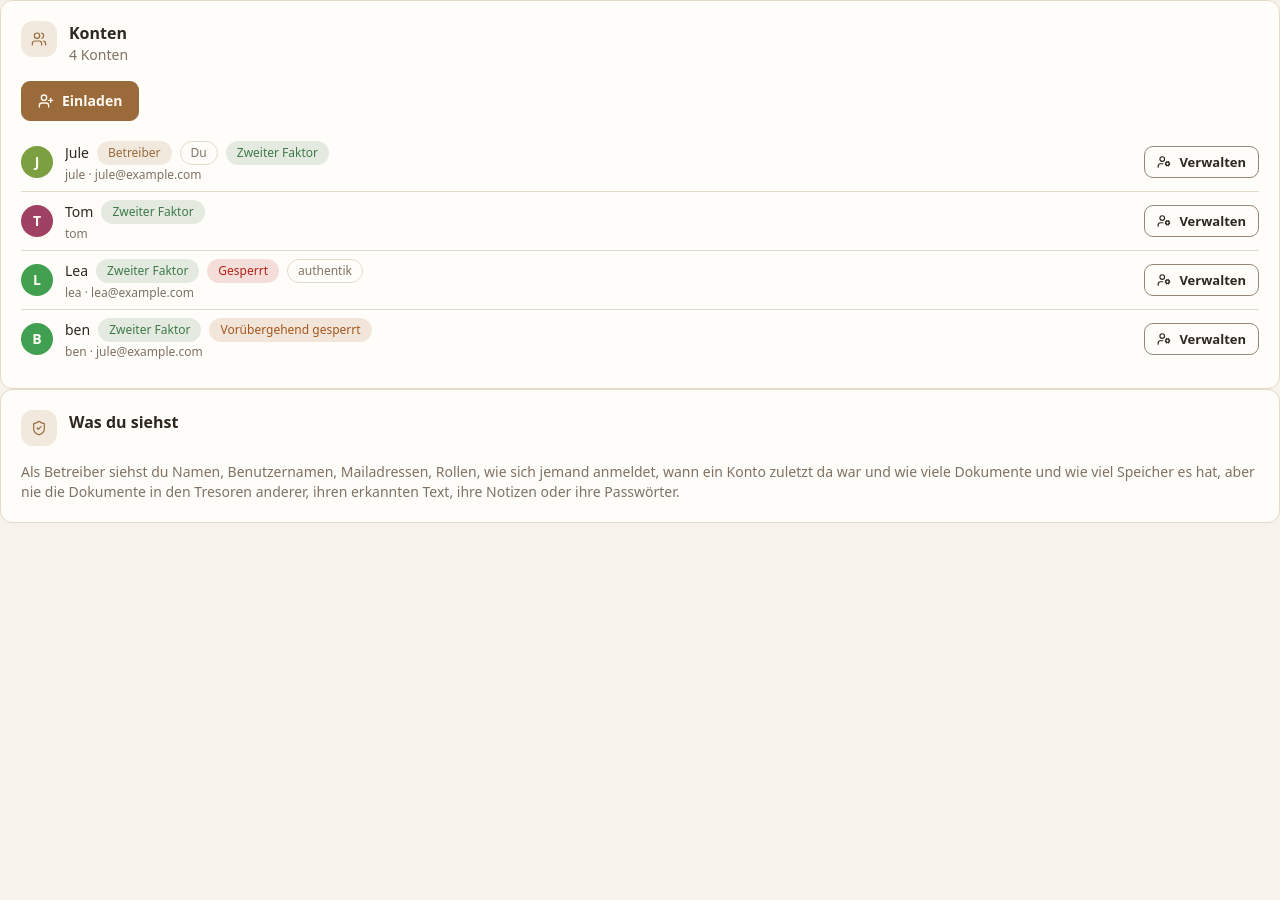
Scenario: the accounts › keep every act of before in the dialog, the link for a new password among them, and none of them at the own account
Click the button "Verwalten" in the row of "jule · jule@example.com" at (1202, 162), box [1144, 146, 1259, 178]
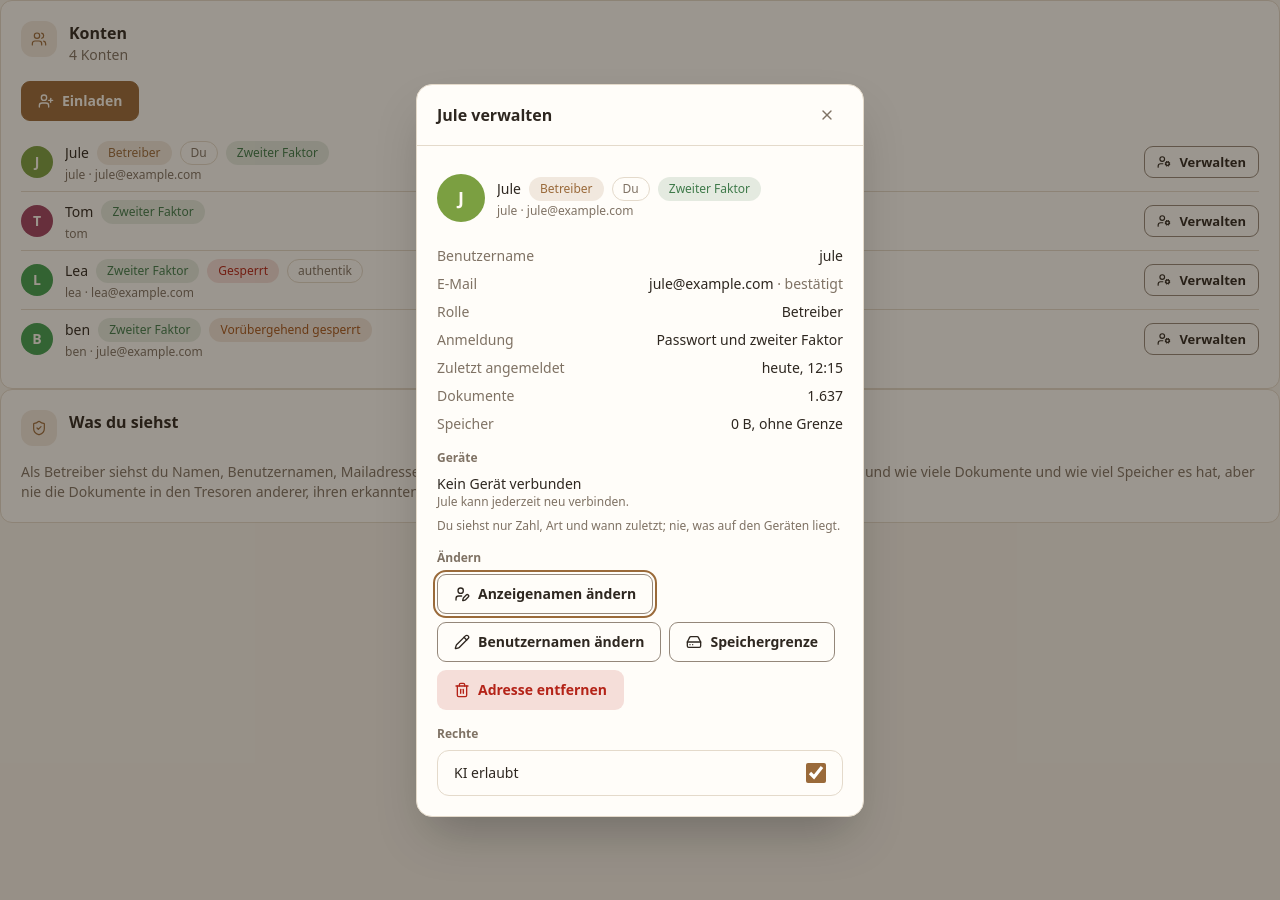
Expected: the button named "Schließen" is shown
Click the button named "Schließen" at (827, 114), box [811, 98, 843, 130]
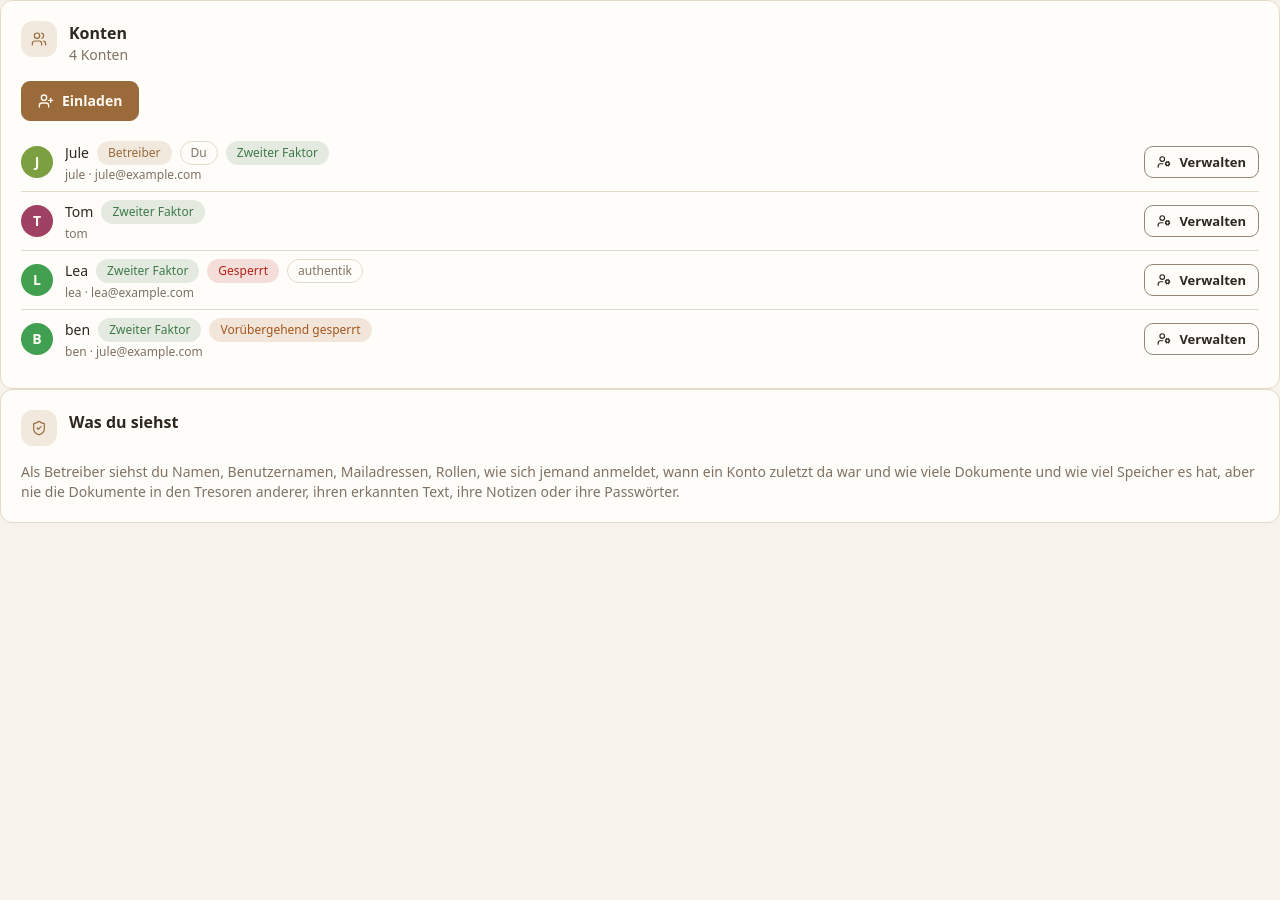
Click the 2nd button "Verwalten" at (1202, 221), box [1144, 205, 1259, 237]
(page scrolled)
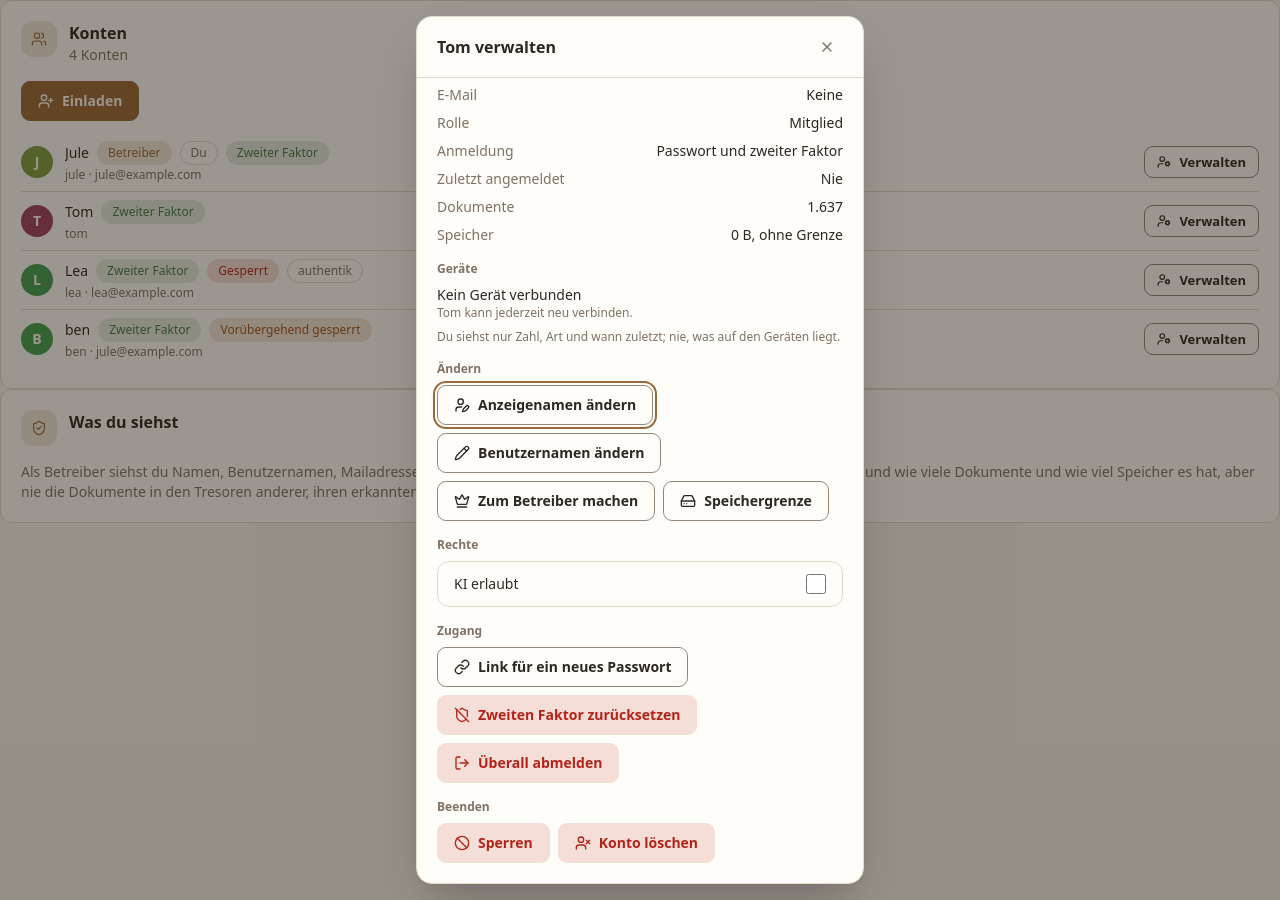
Expected: the button "Zum Betreiber machen" is shown, [437, 481, 655, 521]
Expected: the button "Überall abmelden" is shown, [437, 743, 619, 783]
Expected: the button "Sperren" is shown, [437, 823, 550, 863]
